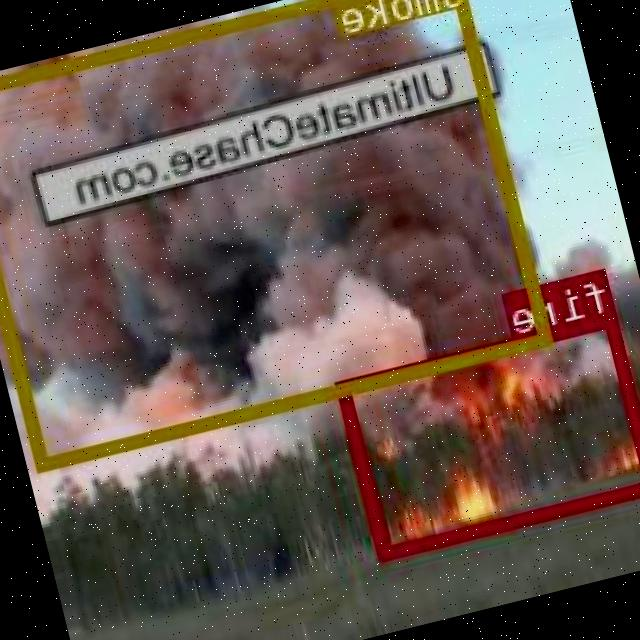fire: (338, 311, 640, 558)
smoke: (0, 0, 554, 468)
